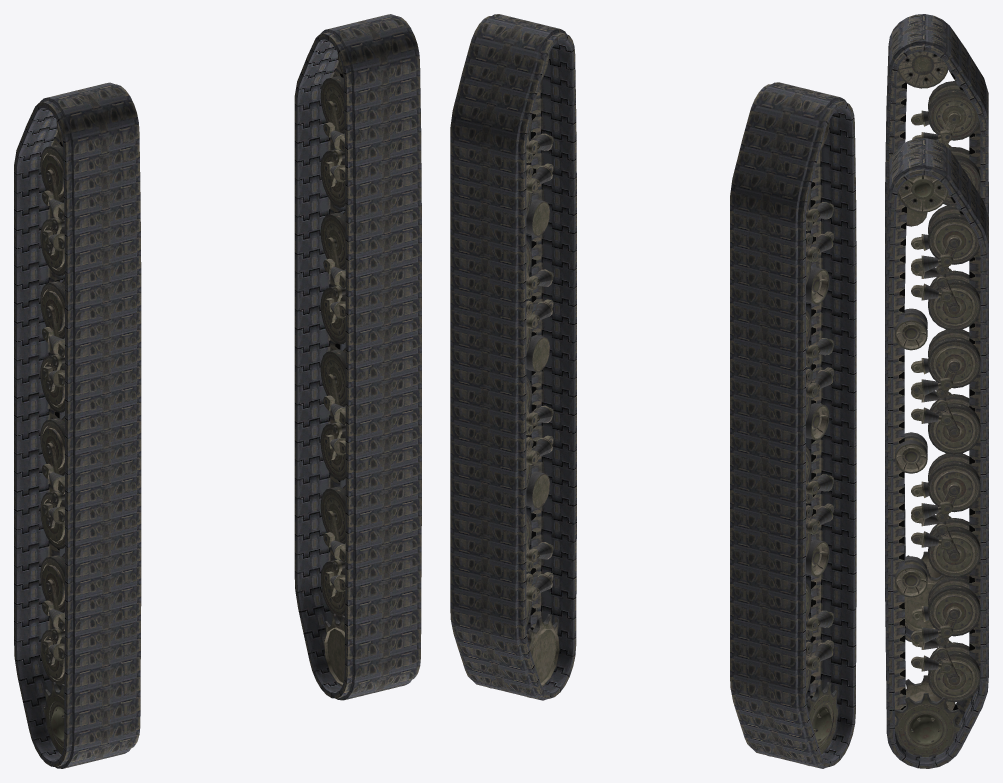
The model's file is Chassis.glb.
3 renders of one model, left to right at view 1: azimuth 30°, elevation 25°; view 2: azimuth 150°, elevation 25°; view 3: azimuth 270°, elevation 25°, orthographic. The views are drawn at different scales.
Parts seen in each view (by area): view 1: set_0_group_0, set_1_group_0, set_3_group_0, set_2_group_0; view 2: set_0_group_0, set_1_group_0, set_3_group_0, set_2_group_0; view 3: set_3_group_0, set_0_group_0, set_1_group_0, set_2_group_0.
Part boxes in pixels (box(x1,y1,x2,y2)): set_0_group_0: box(294, 14, 421, 700); set_1_group_0: box(14, 82, 141, 768); set_3_group_0: box(320, 53, 406, 697); set_2_group_0: box(40, 120, 126, 765); set_0_group_0: box(450, 14, 576, 700); set_1_group_0: box(730, 82, 856, 768); set_3_group_0: box(480, 53, 559, 697); set_2_group_0: box(759, 120, 837, 765); set_3_group_0: box(895, 175, 980, 757); set_0_group_0: box(885, 138, 988, 768); set_1_group_0: box(885, 14, 988, 642); set_2_group_0: box(897, 51, 980, 631).
Size of the model in its own units: 3.42 by 6.16 by 0.9592.
4 materials, 4 textured.
